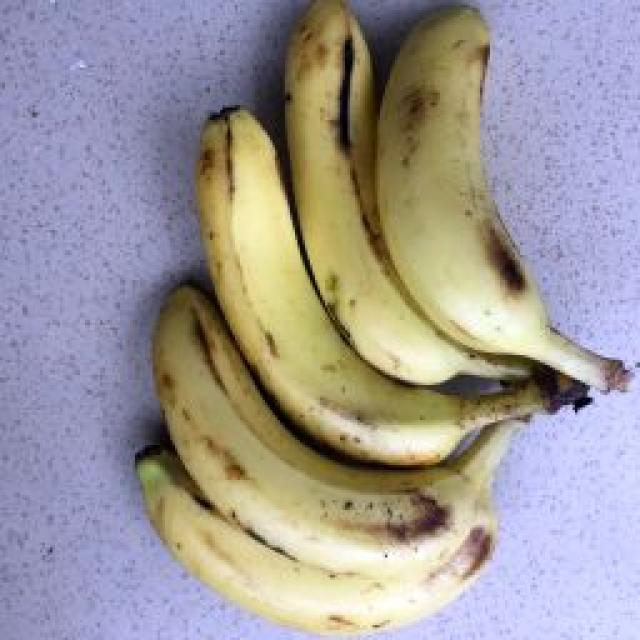banana: (115, 106, 585, 569)
